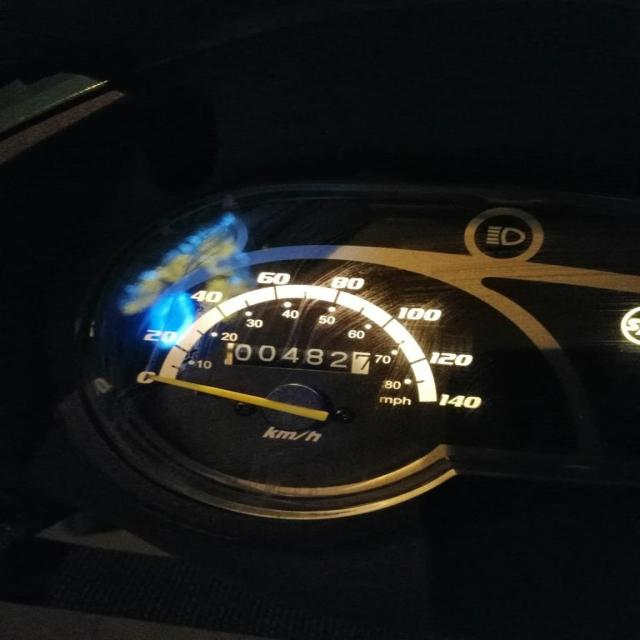odometer: (217, 338, 375, 378)
